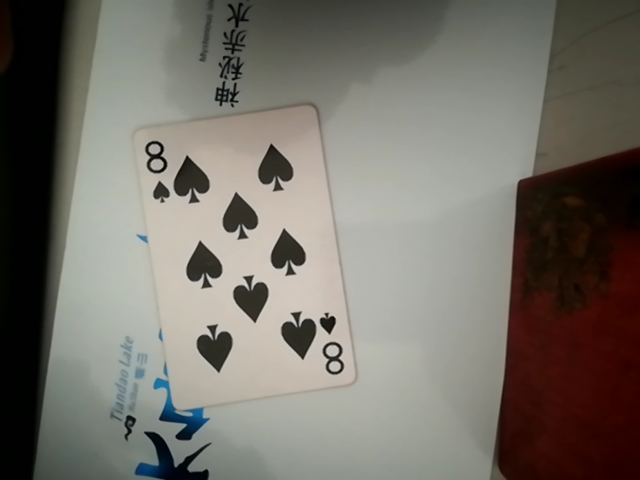ht 8: (150, 111, 351, 412)
